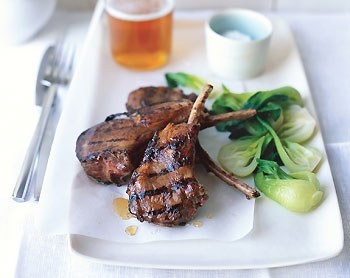background: (41, 30, 177, 98), (38, 0, 95, 30), (17, 6, 137, 17)
